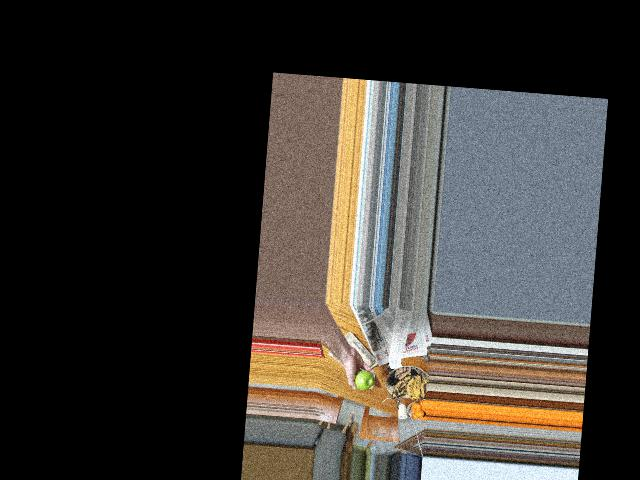apple: (351, 367, 376, 392)
